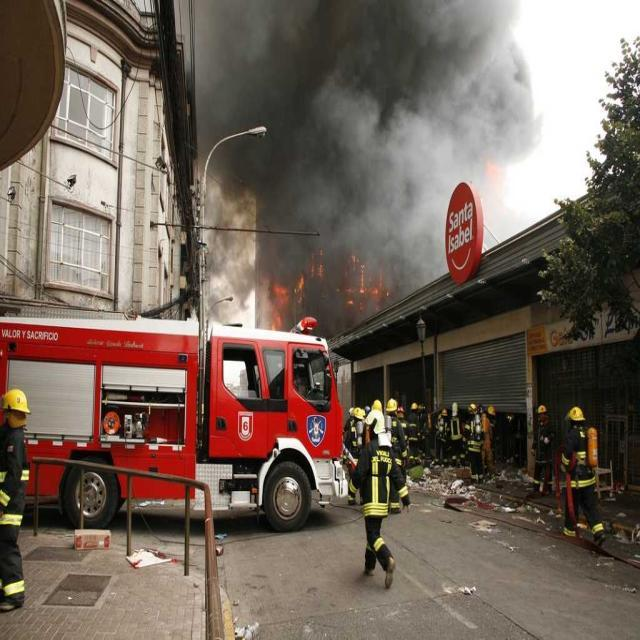Fire: (276, 256, 381, 330)
Smoke: (209, 6, 497, 183)
